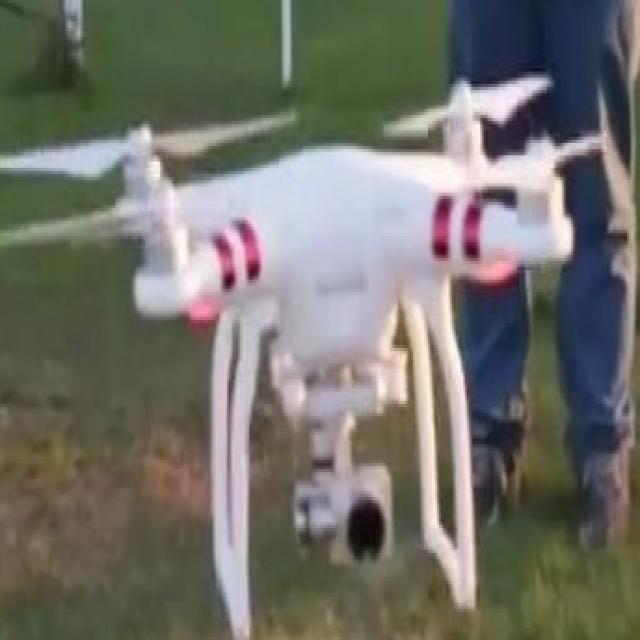drone: (0, 30, 598, 640)
